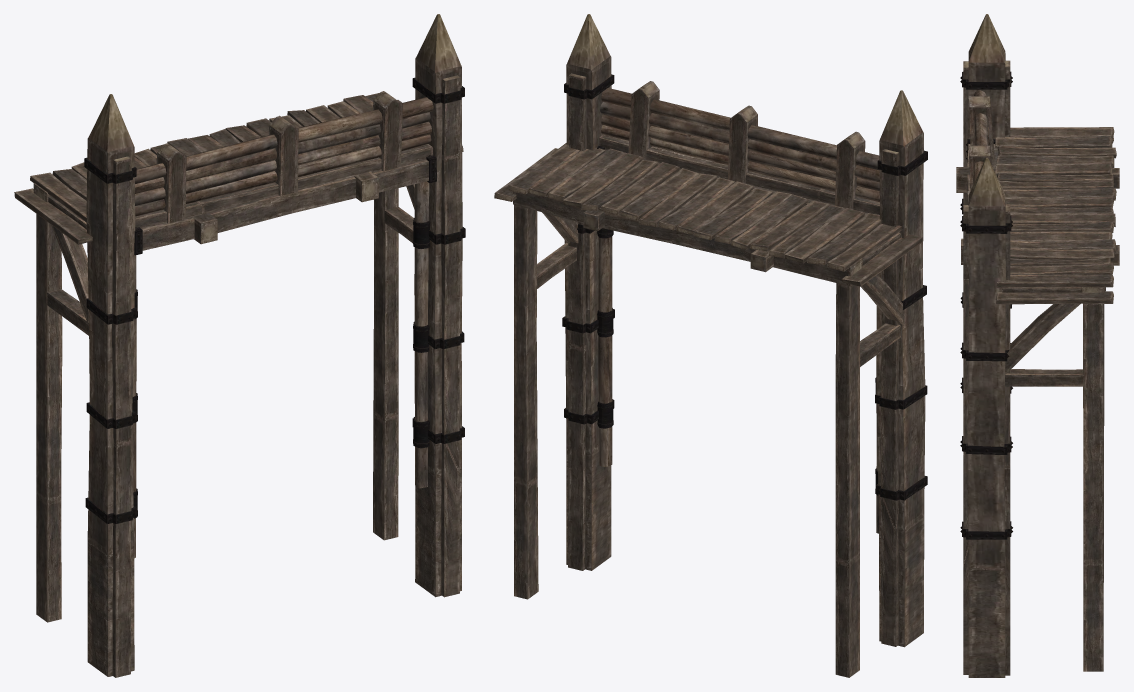
Rendered from jav_struc_def_ironwood_t2_gateframe-transformed.glb.
The picture shows the model from 3 angles, left to right: view 1: azimuth 30°, elevation 25°; view 2: azimuth 150°, elevation 25°; view 3: azimuth 270°, elevation 25°; orthographic projection. The views are drawn at different scales.
Visible parts, largest first — view 1: default; view 2: default; view 3: default.
Boxes of the visible parts, bbox=[...] form: default: bbox=[14, 14, 465, 677]; default: bbox=[494, 14, 927, 677]; default: bbox=[956, 14, 1119, 677].
Bounding box in the file's own units: 8.7 × 12.35 × 3.56.
Materials: 1 (1 with a texture image).
